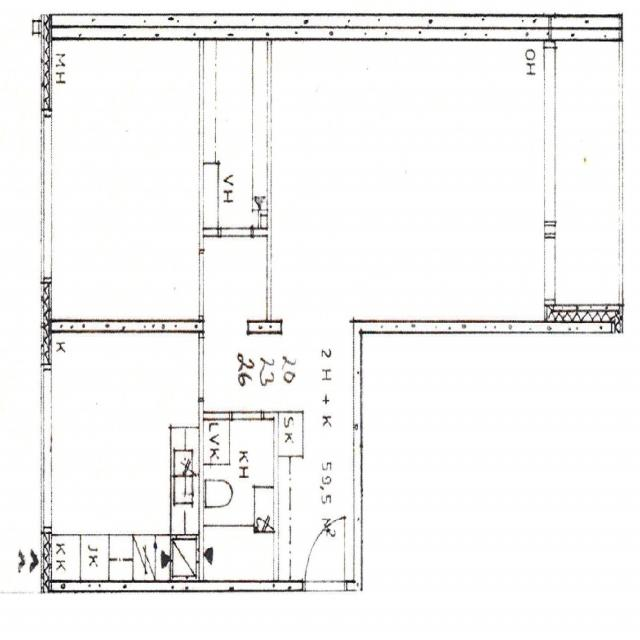door: (305, 517, 345, 591)
